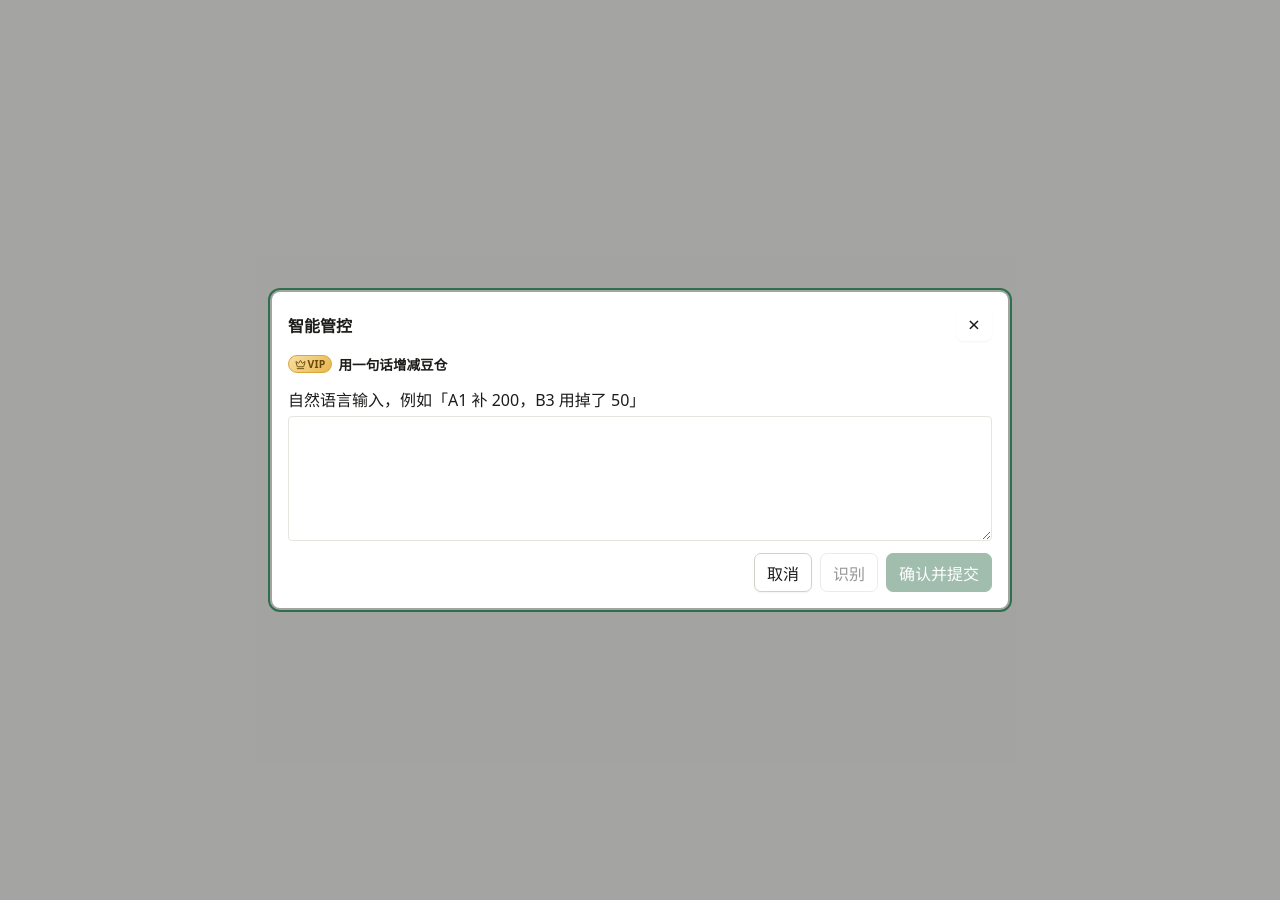
Scenario: SmartControlDialog › deleting every row blocks submission
In the text box labelled "自然语言输入": (640, 478) x1=288 y1=416 x2=992 y2=541, type "A1 补 200，B3 用掉了 50"
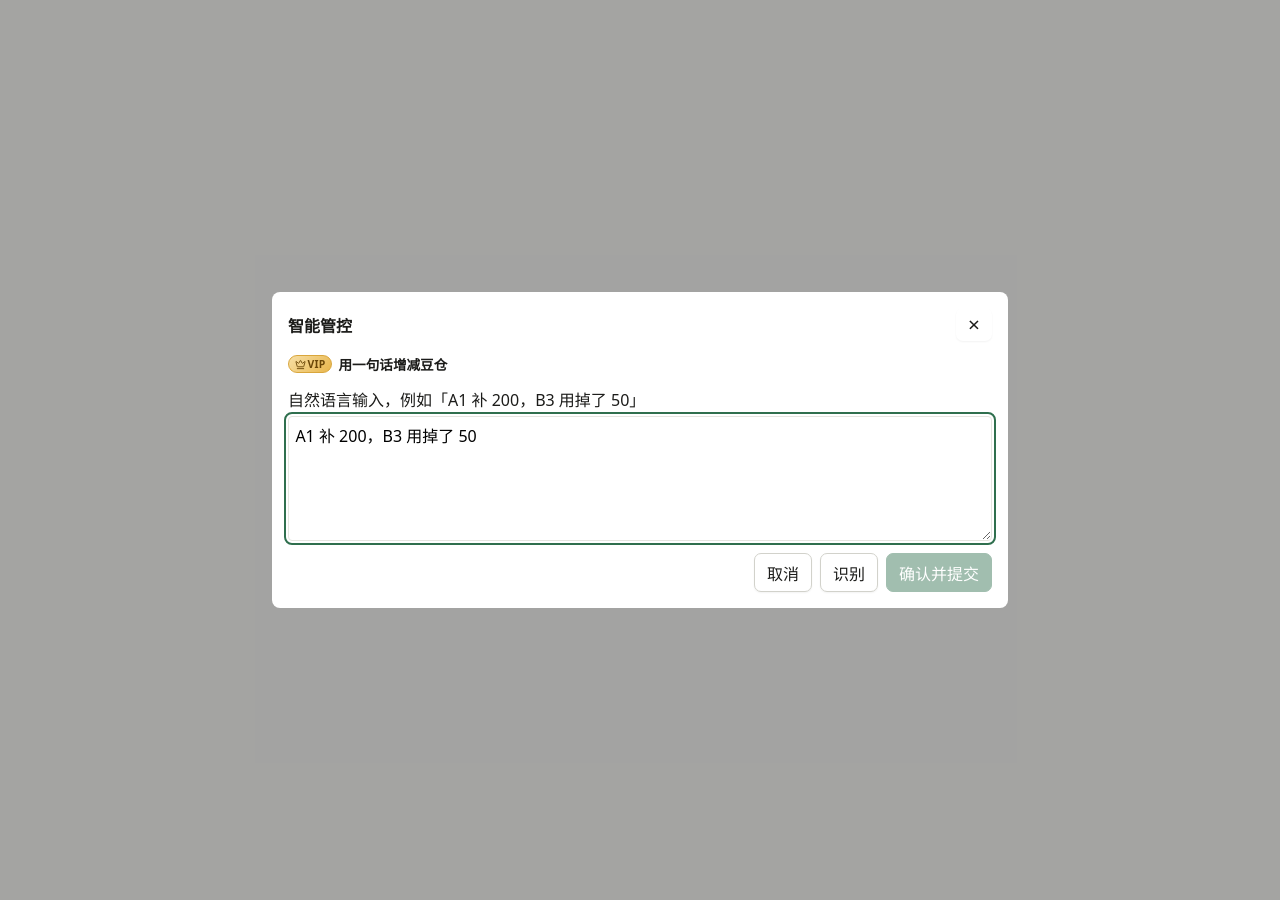
Click the button "识别": (849, 573) x1=820 y1=553 x2=878 y2=592
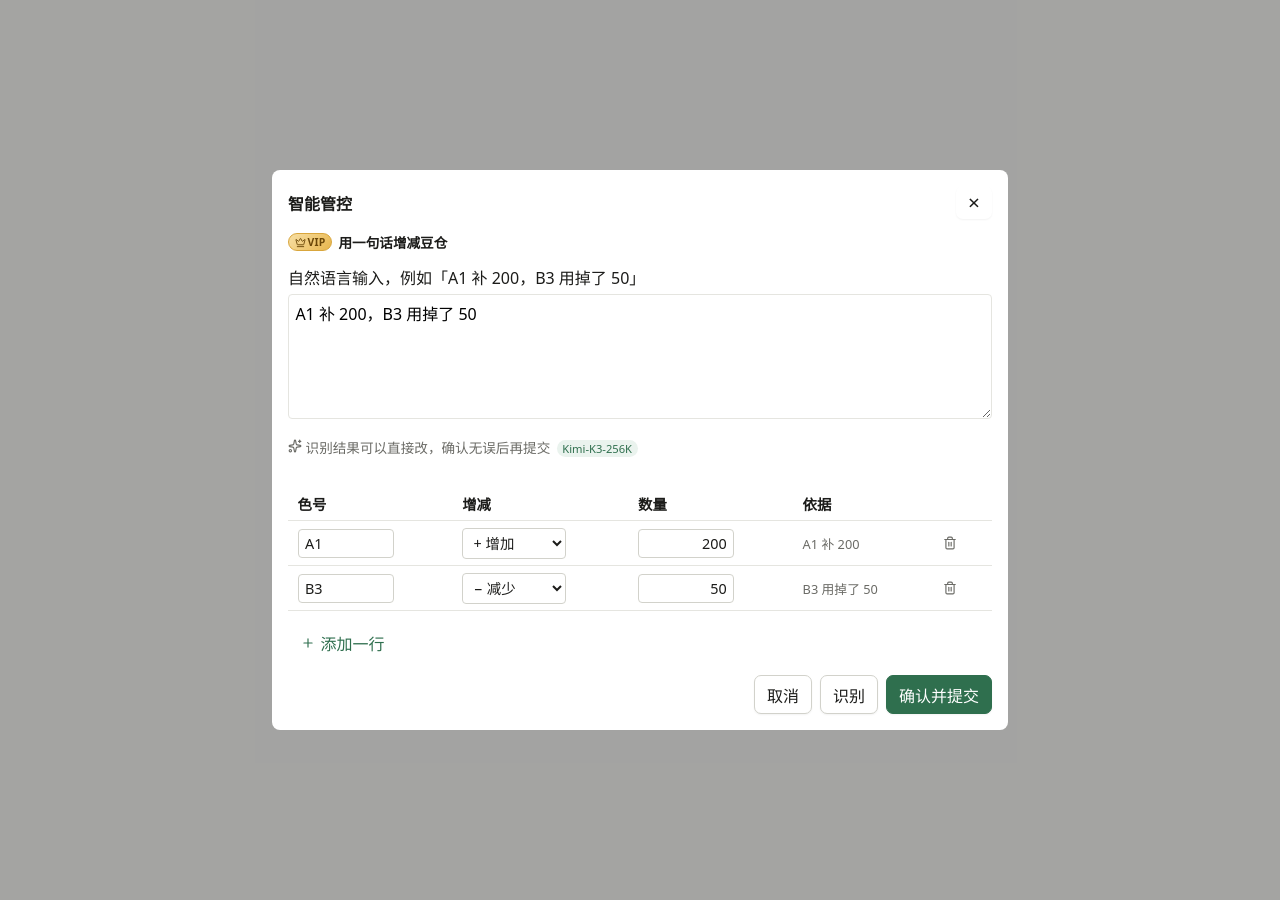
Click the button named "删除第 2 行": (950, 588) x1=938 y1=575 x2=963 y2=601
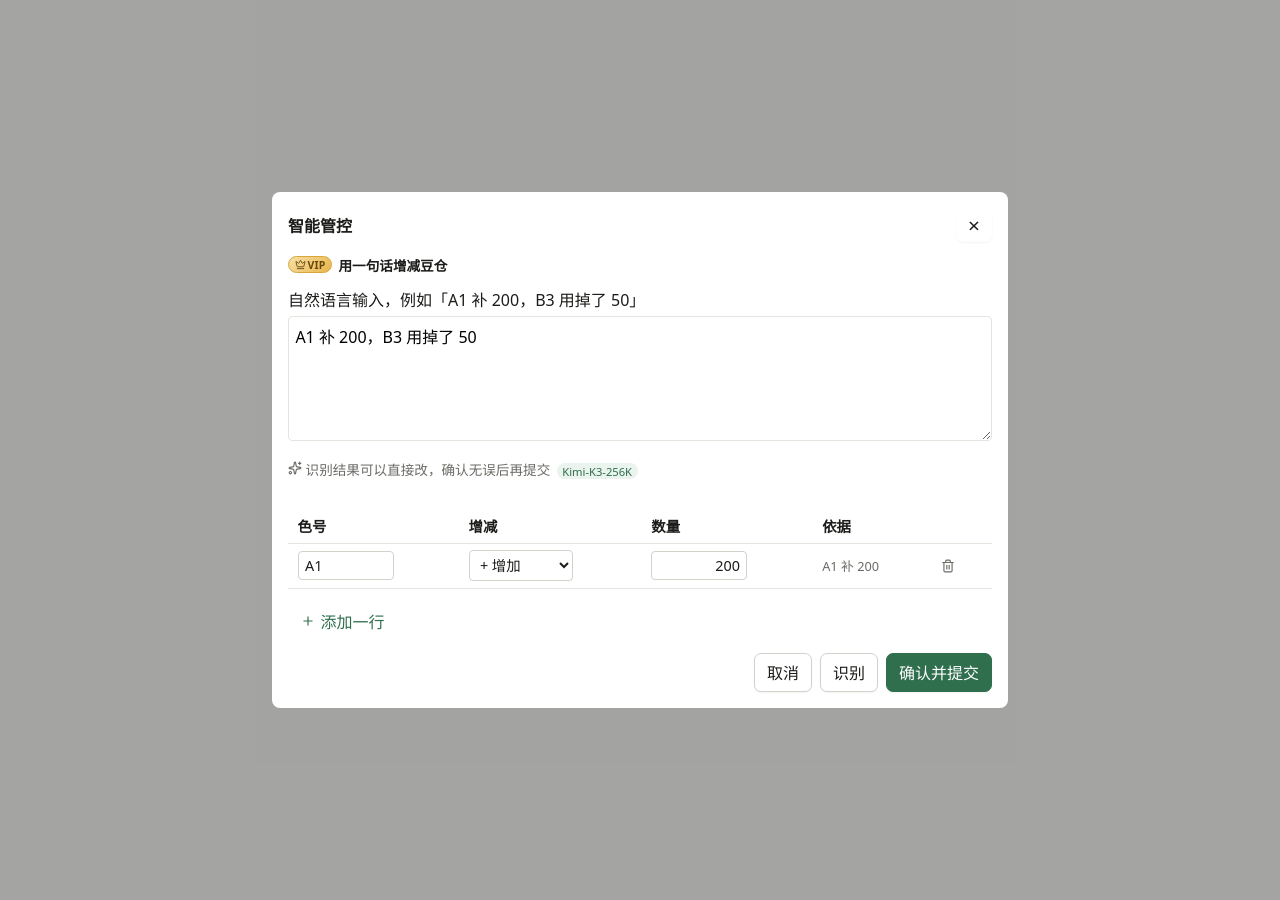
Click the button named "删除第 1 行": (948, 566) x1=935 y1=553 x2=961 y2=578
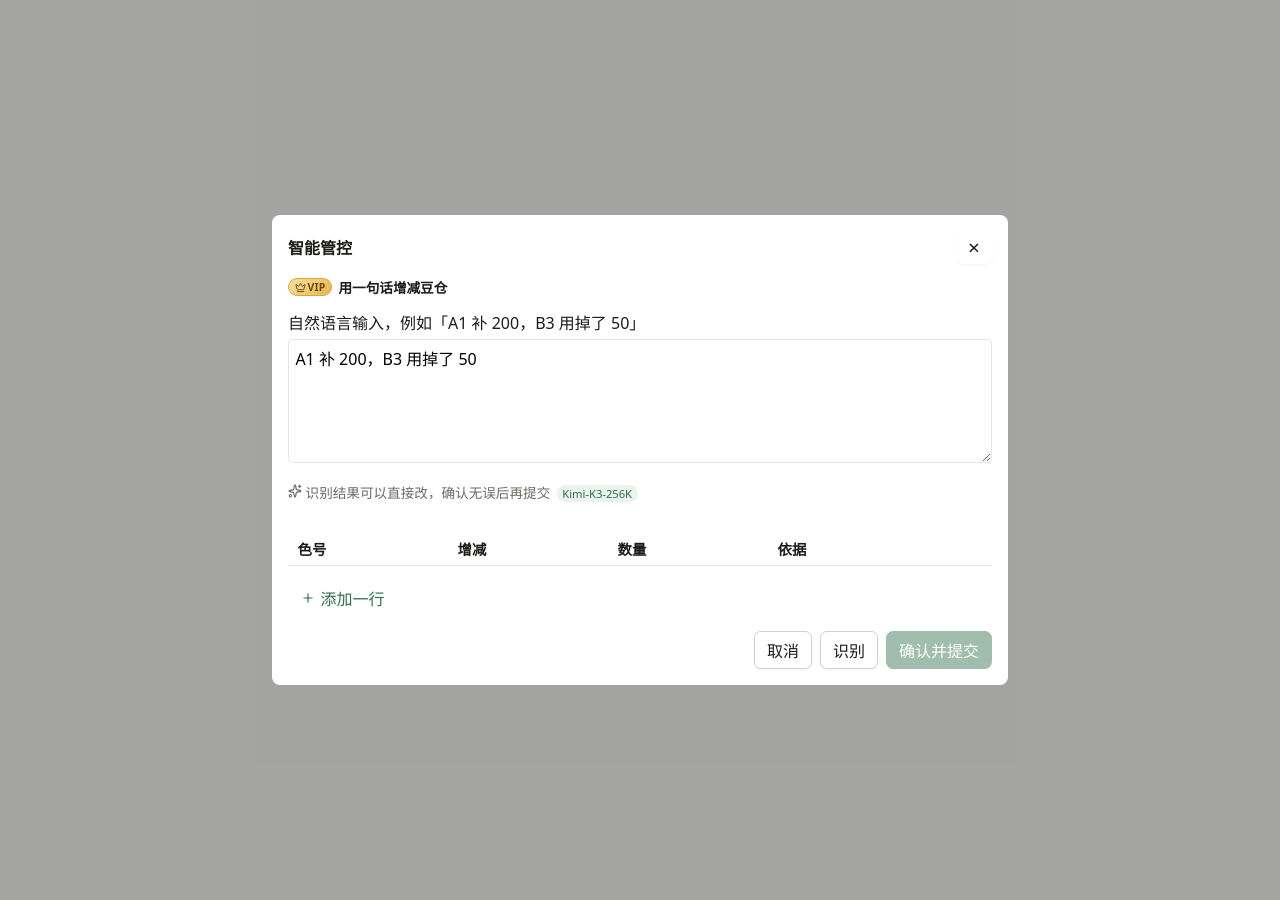
Result: the button "确认并提交" is disabled at x1=886 y1=630 x2=992 y2=669
